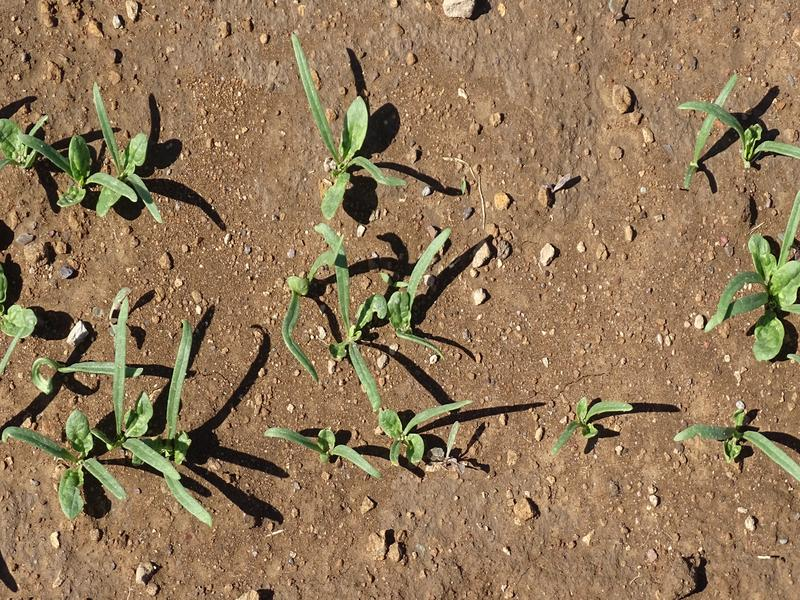Espinaca: (271, 234, 465, 470), (4, 304, 204, 531), (277, 31, 414, 218), (1, 80, 161, 225), (710, 184, 800, 351), (674, 400, 798, 489), (685, 93, 800, 168), (549, 400, 634, 459)
